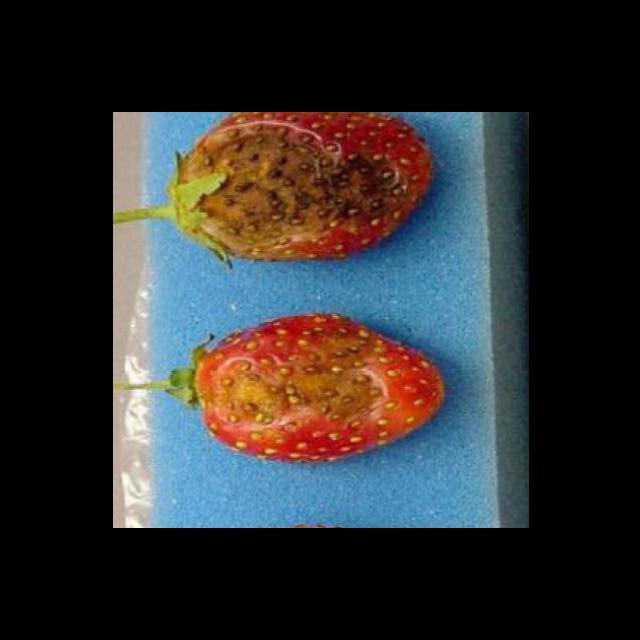Anthracnose Fruit Rot: (175, 112, 426, 263), (193, 323, 394, 446)
